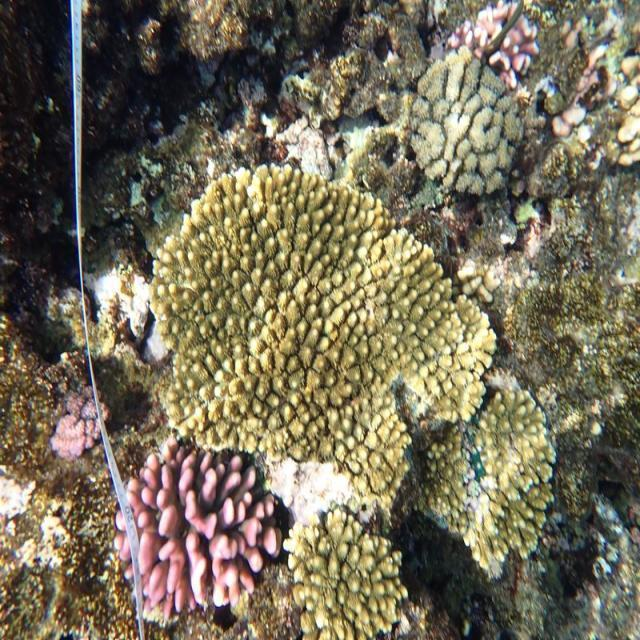Bleached Coral: (259, 435, 382, 541), (88, 255, 182, 370), (0, 450, 77, 580), (282, 115, 350, 191)
Healthy Coral: (174, 189, 482, 439), (105, 437, 272, 618), (276, 543, 431, 640), (475, 389, 556, 574), (54, 393, 114, 453)
